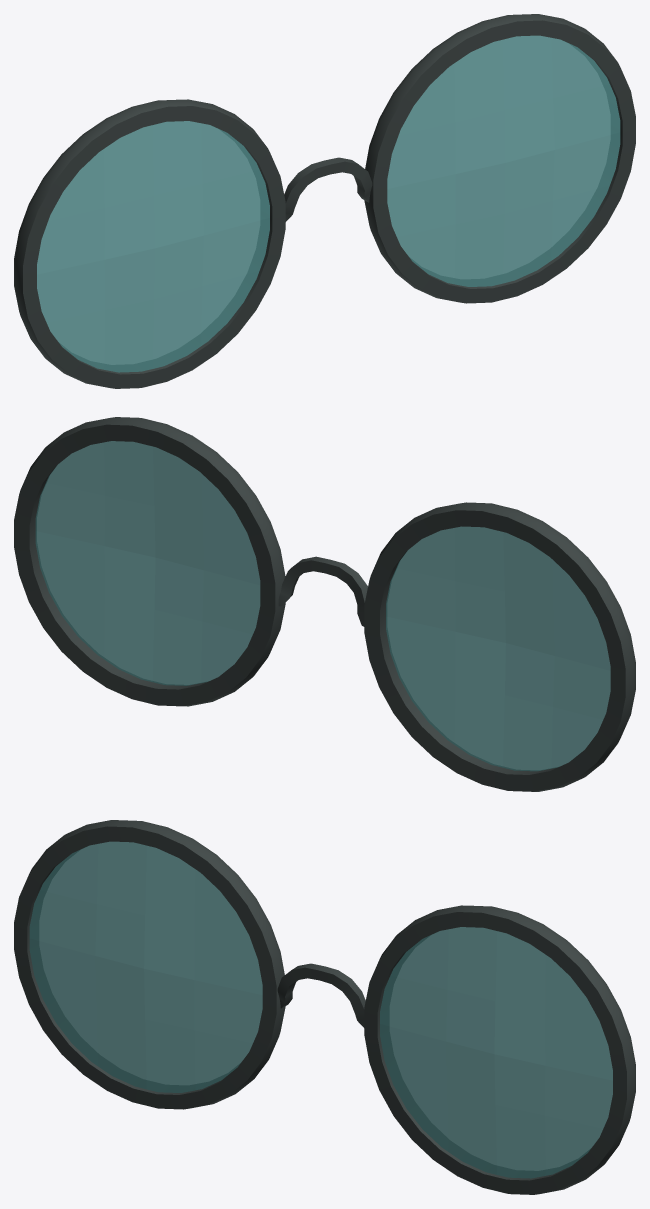
Rendered from Face_GlassesJazz2.fbx.
3 renders of one model, top to bottom at view 1: azimuth 30°, elevation 25°; view 2: azimuth 150°, elevation 25°; view 3: azimuth 330°, elevation 25°, orthographic.
Visible parts, largest first — view 1: Face_GlassesJazz2; view 2: Face_GlassesJazz2; view 3: Face_GlassesJazz2.
Boxes of the visible parts, x1,y1,x2,y2 form: Face_GlassesJazz2: [14, 14, 635, 388]; Face_GlassesJazz2: [14, 417, 635, 791]; Face_GlassesJazz2: [14, 820, 635, 1194].
Size of the model in its own units: 1.57 by 0.6787 by 0.0473.
